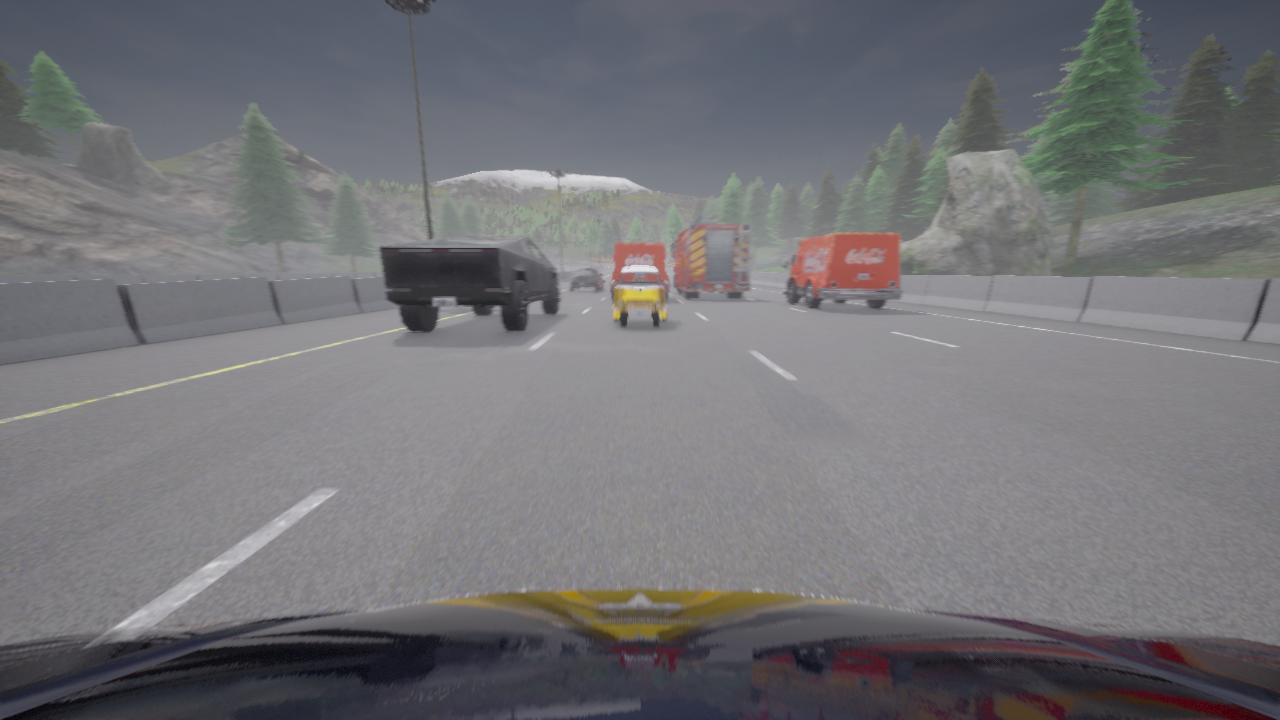cyclist: (0, 588, 1279, 719), (380, 236, 560, 331), (782, 233, 901, 308), (671, 213, 751, 298), (610, 266, 669, 327), (611, 243, 668, 298), (569, 269, 604, 291)
